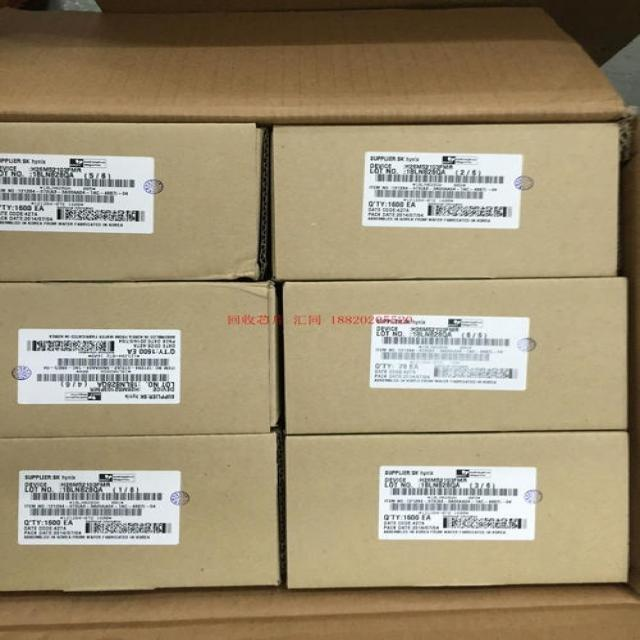box: (3, 6, 639, 638), (278, 429, 630, 586), (283, 275, 628, 434), (273, 124, 619, 281), (1, 431, 279, 592), (0, 283, 279, 438), (0, 121, 262, 284)
